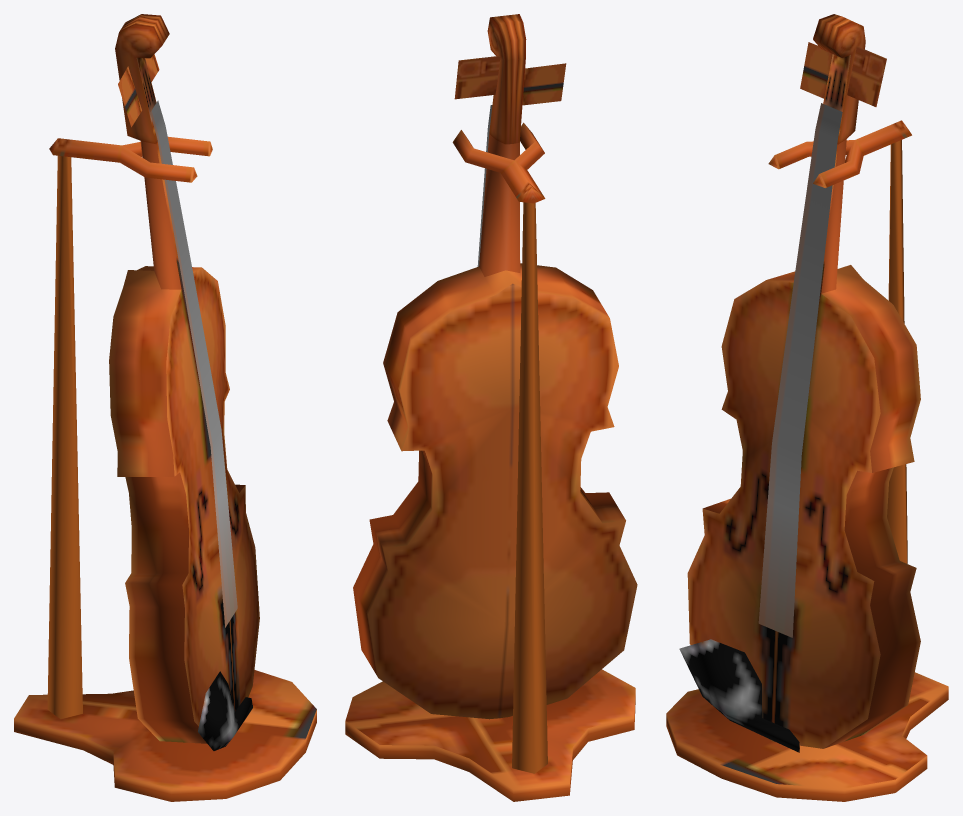
The model's file is int_vio_viola.dae.
3 views of the same model, side by side, from view 1: azimuth 30°, elevation 25°; view 2: azimuth 150°, elevation 25°; view 3: azimuth 270°, elevation 25° (orthographic). The views are drawn at different scales.
Visible parts, largest first — view 1: int_vio_viola; view 2: int_vio_viola; view 3: int_vio_viola.
Part boxes in pixels (left/top/right/bottom): int_vio_viola: left=14, top=14, right=316, bottom=801; int_vio_viola: left=345, top=14, right=637, bottom=801; int_vio_viola: left=666, top=14, right=948, bottom=801.
Bounding box in the file's own units: 13.3 × 37 × 13.3.
Materials: 2 (2 with a texture image).
